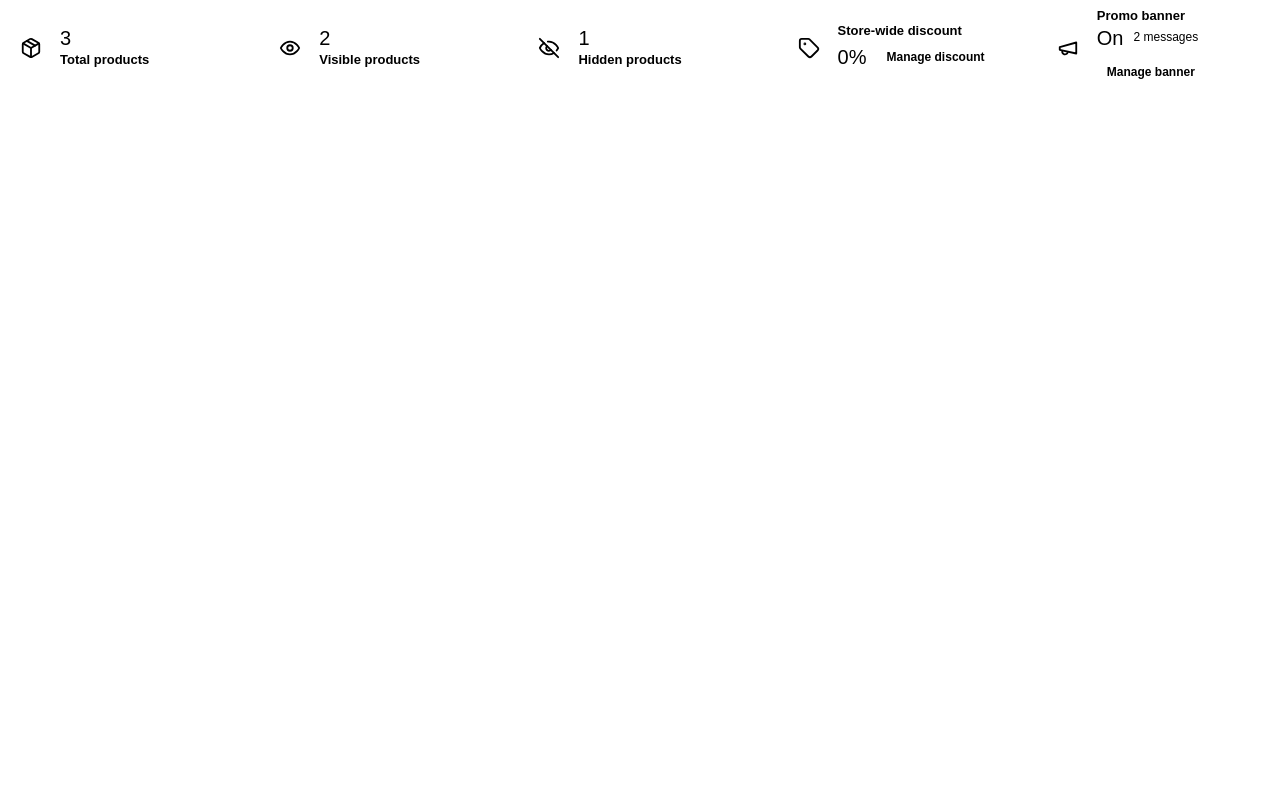
Scenario: StatCards › shows a promo banner card that opens the editor
Expected: the element with test id "stat-promo" shows "On", [1097, 27, 1124, 49]
Expected: the element with test id "stat-promo" shows "2 messages", [1097, 27, 1205, 87]
Click the button "Manage banner" at (1151, 72), box [1097, 58, 1205, 87]
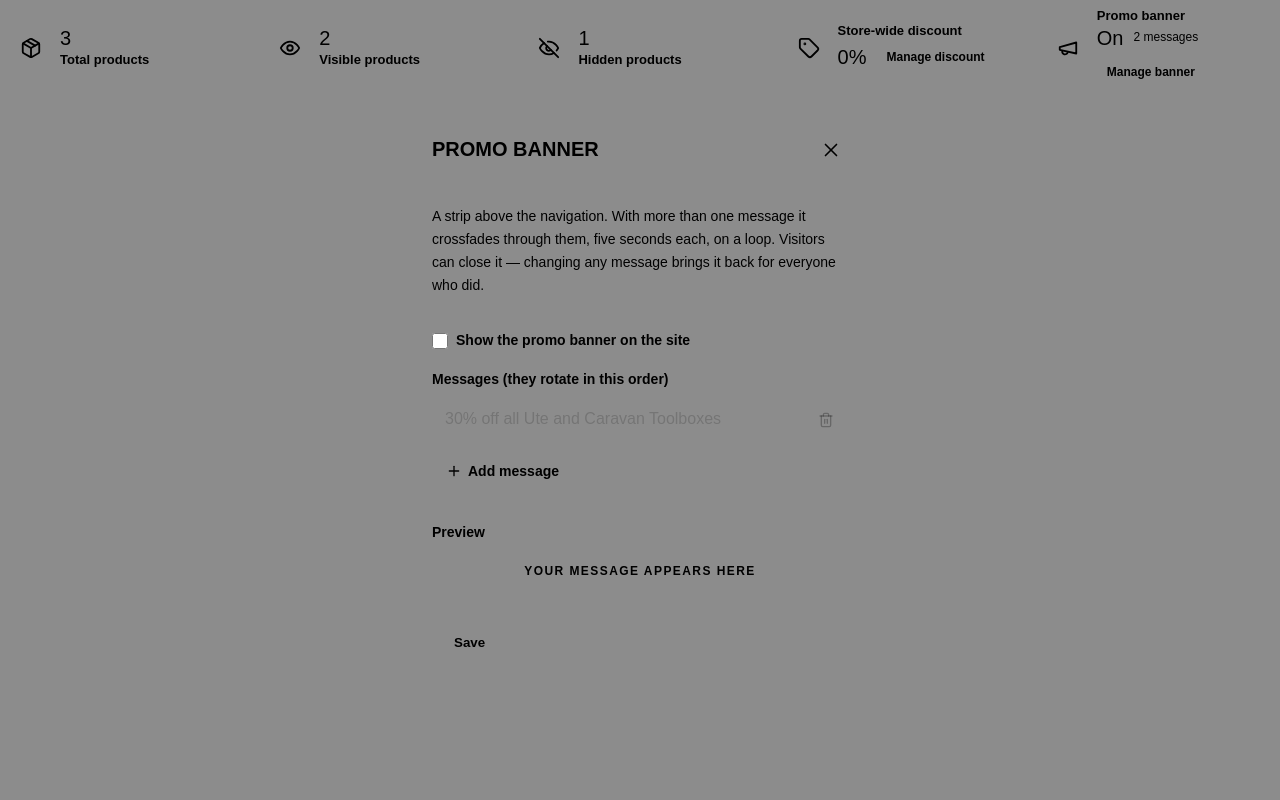
Expected: the dialog "Promo banner" is shown
